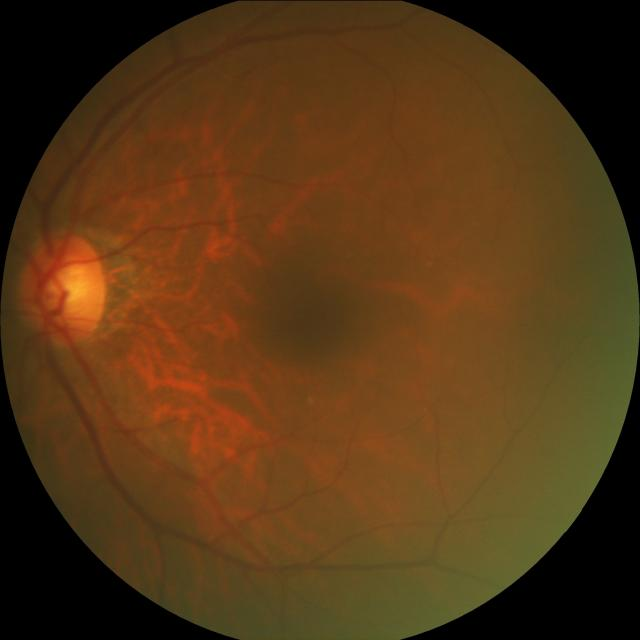OC: (43, 261, 91, 314)
OD: (20, 230, 105, 346)
